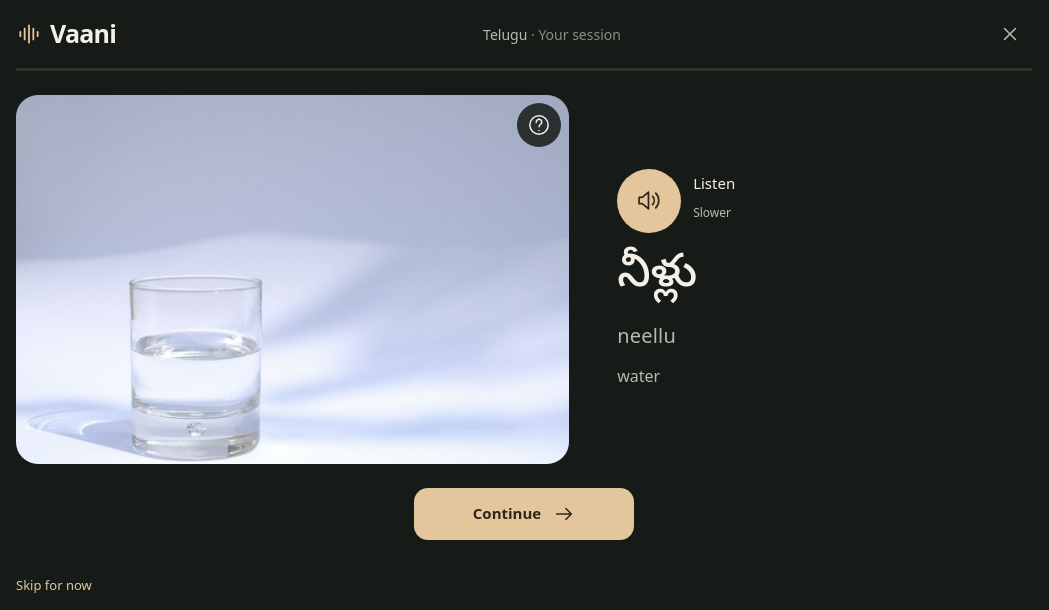
continuous session UI › finishes with a summary and offers the continuous course
Click the button named "Finish session" at point(1010, 34), box [988,12,1032,56]
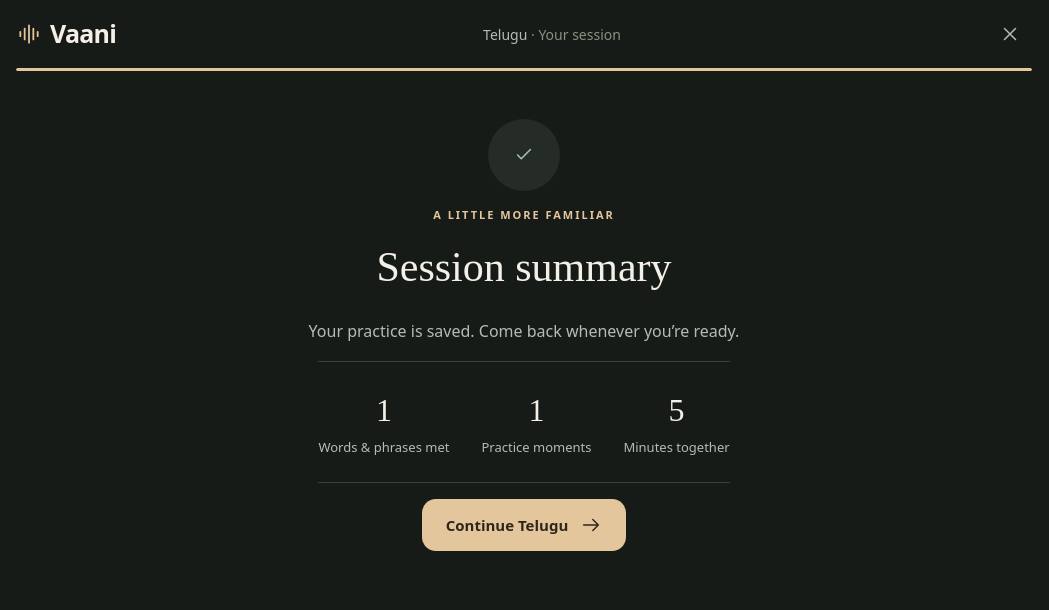
Expected: the heading "Session summary" is shown, [376,240,672,294]
